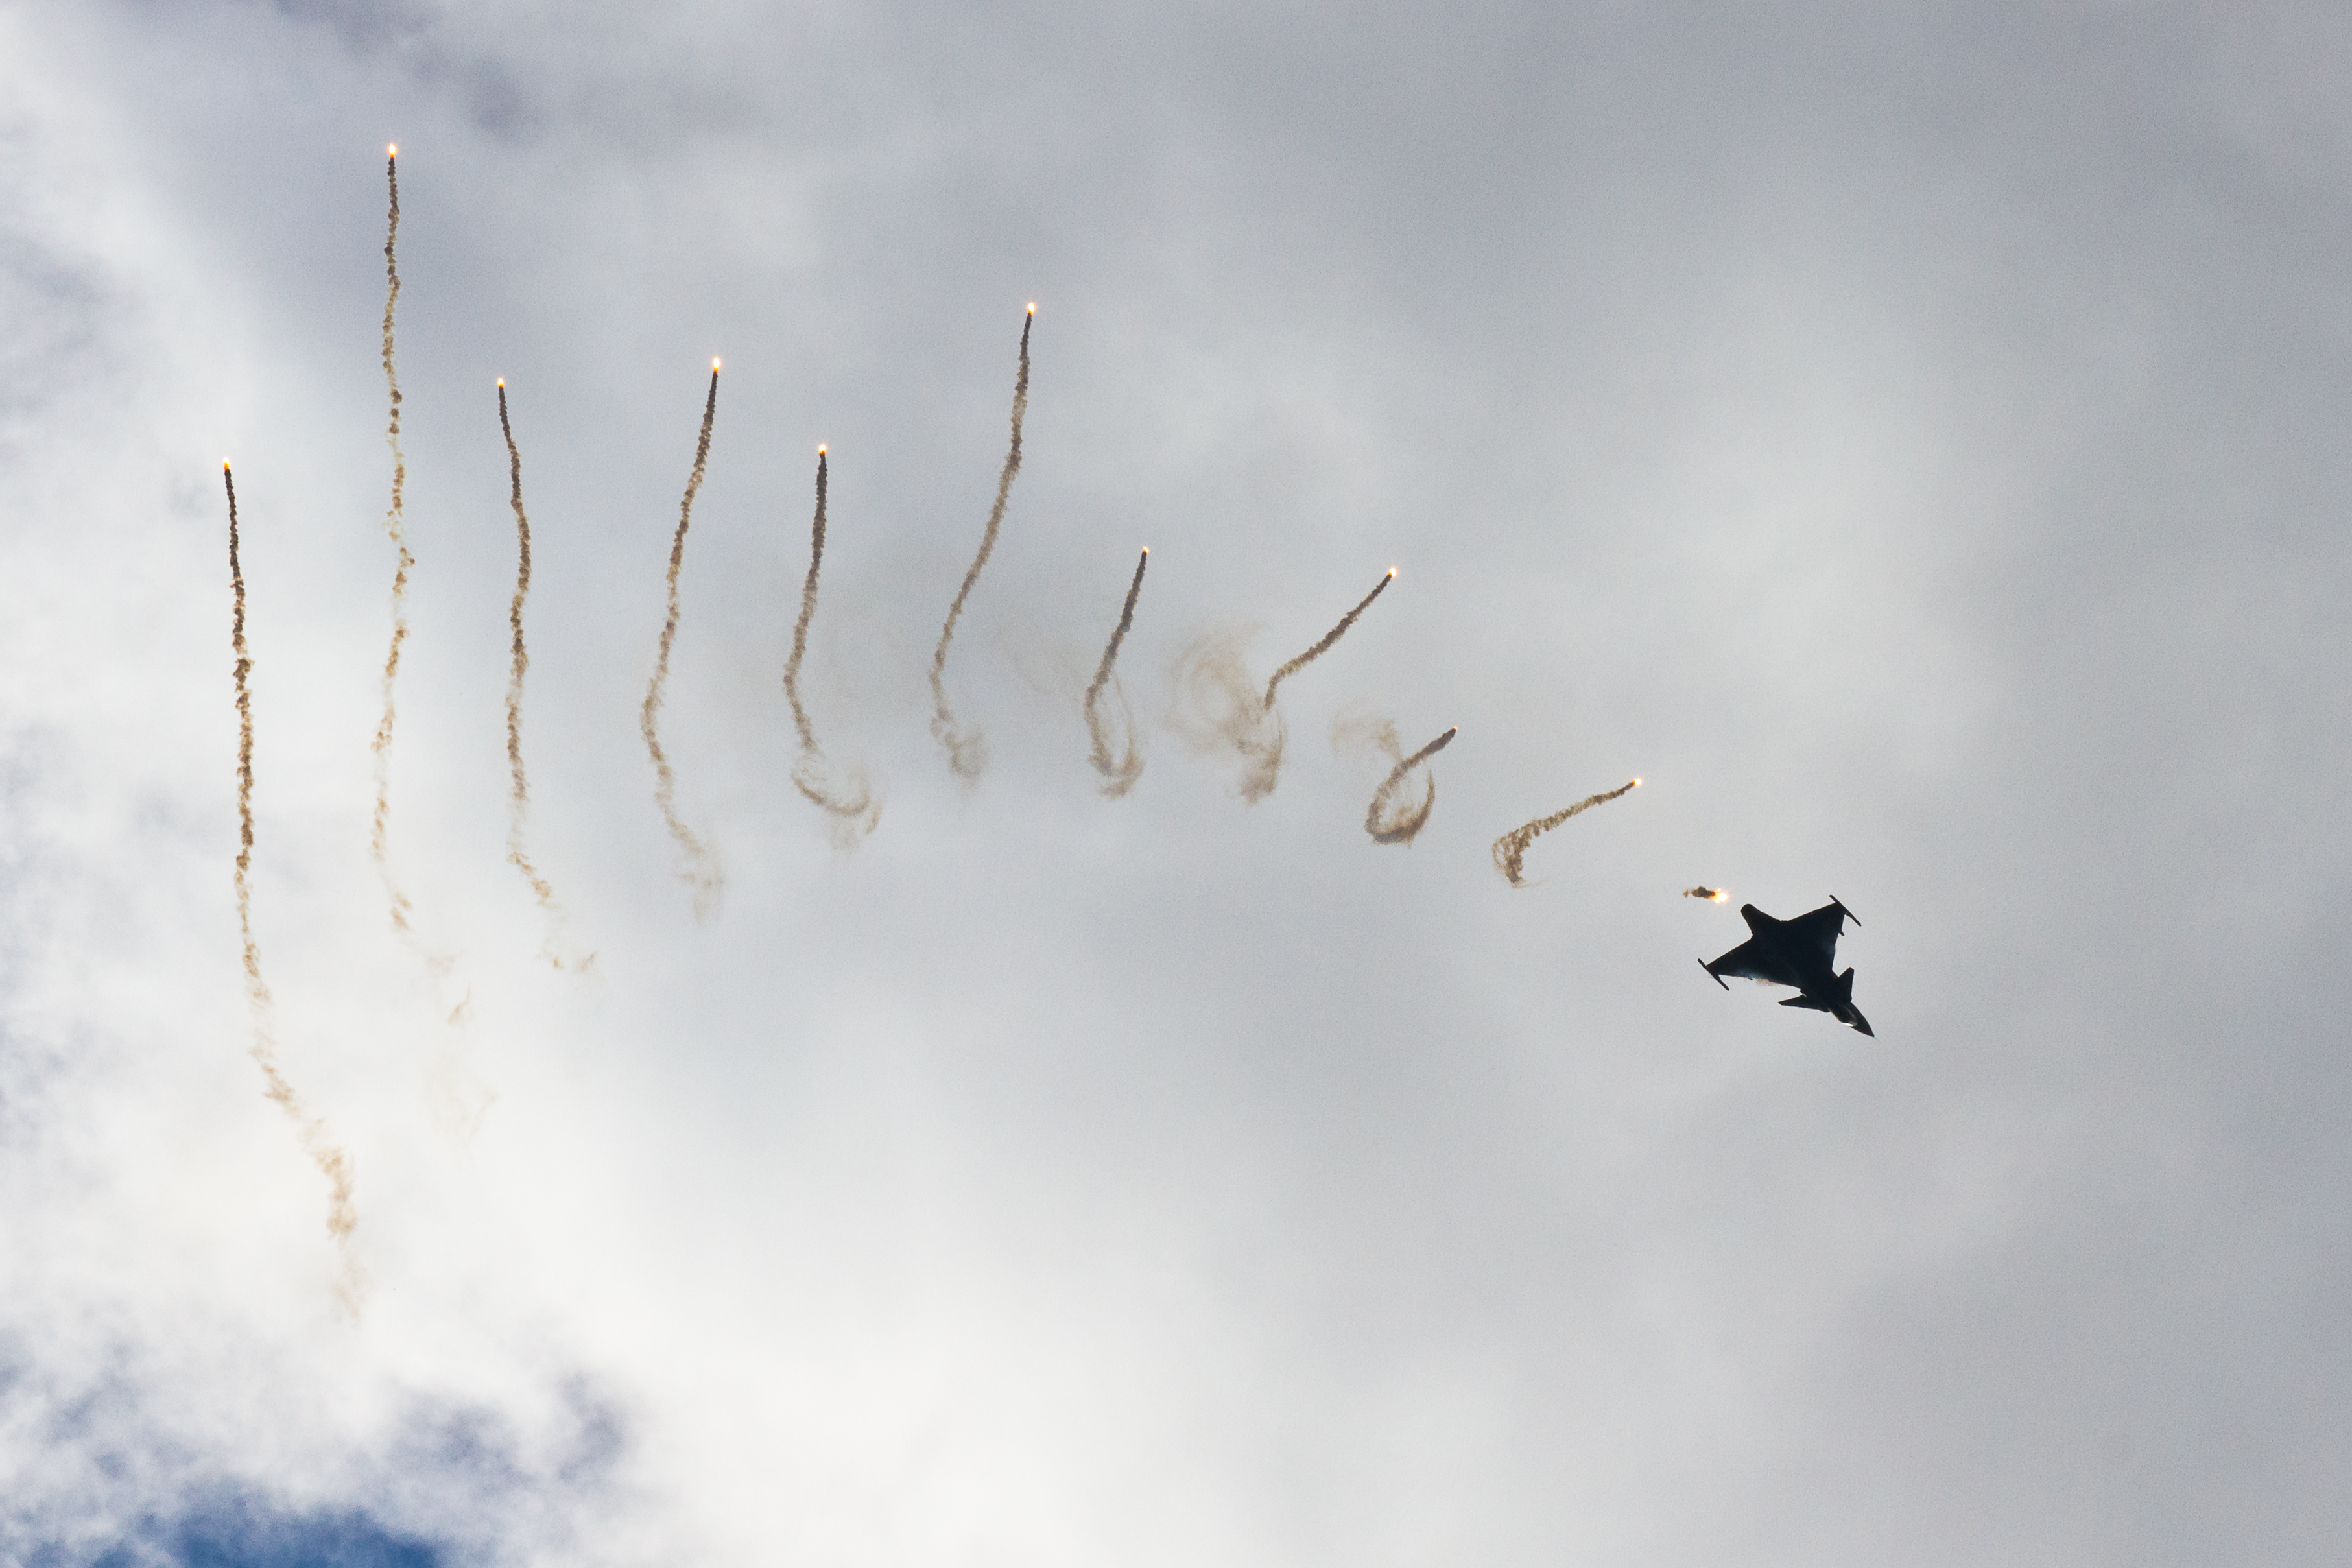JAS39: (1698, 893, 1883, 1045)
